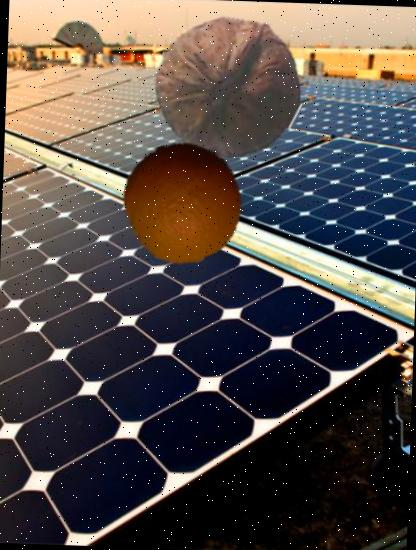Orange: (121, 140, 246, 266)
Walnut: (152, 10, 305, 163)
